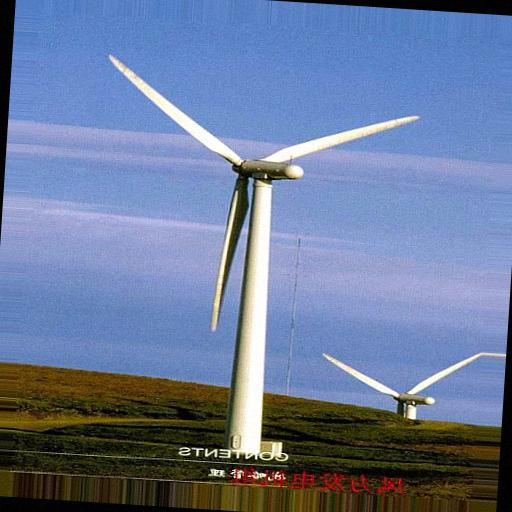wind turbine: (106, 55, 422, 438)
